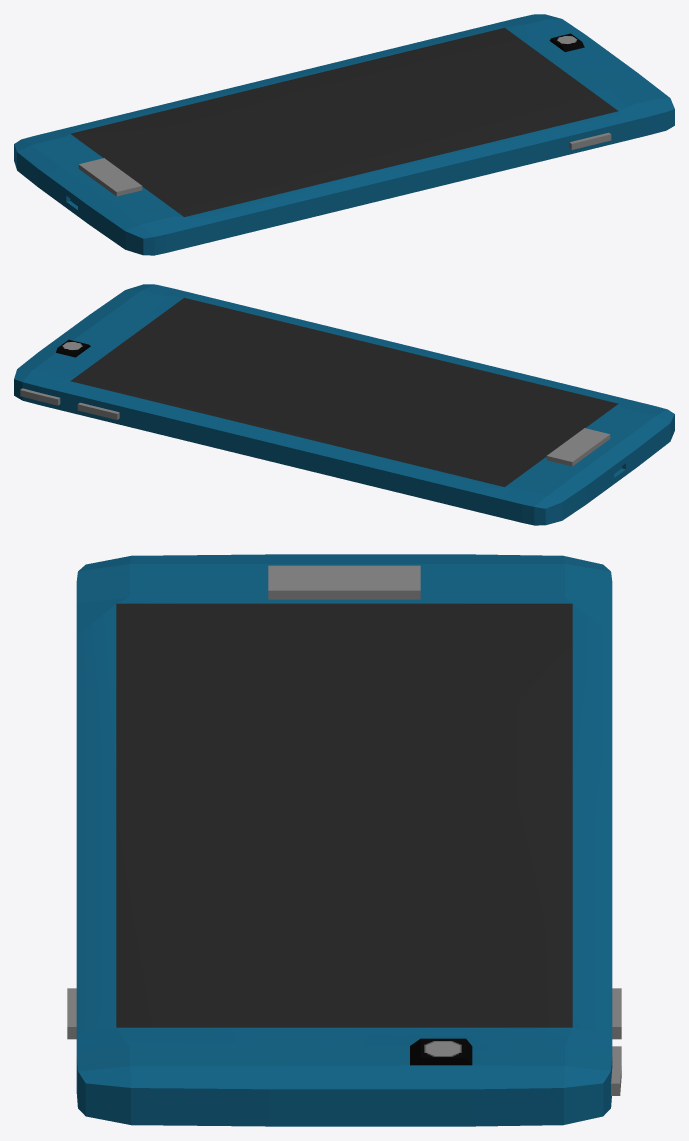
File: Celular.glb
The picture shows the model from 3 angles, top to bottom: view 1: azimuth 30°, elevation 25°; view 2: azimuth 150°, elevation 25°; view 3: azimuth 270°, elevation 25°; orthographic projection. The views are drawn at different scales.
Parts seen in each view (by area): view 1: Cube; view 2: Cube; view 3: Cube.
Boxes of the visible parts, bbox=[...] form: Cube: bbox=[14, 14, 674, 255]; Cube: bbox=[14, 284, 674, 525]; Cube: bbox=[67, 554, 621, 1126].
Bounding box in the file's own units: 0.1388 × 0.00809 × 0.0608.
Materials: 1 (1 with a texture image).
